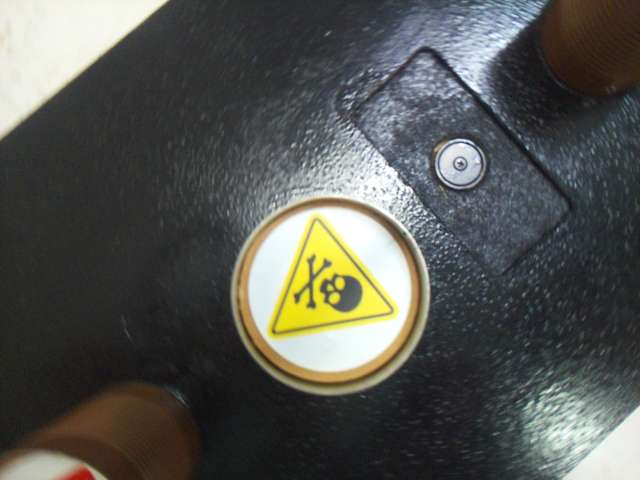toxic_fluid: (250, 208, 410, 370)
